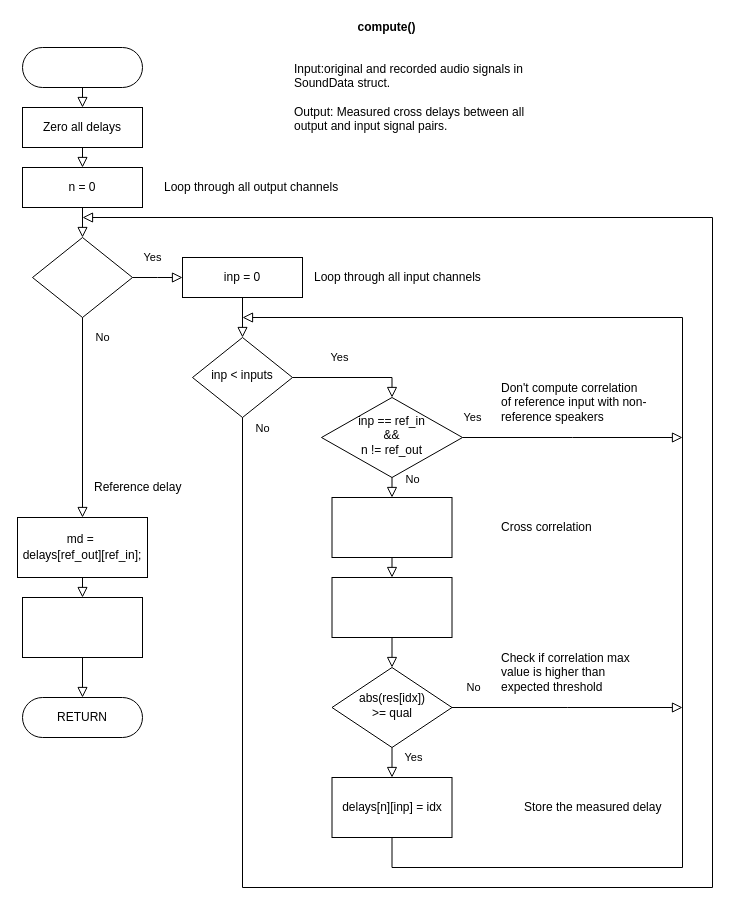
This 740x915 diagram has some shape labels left out. Each missing label, with the centre of its shape:
Decrement all delays by reference delay: the point at 82,627
idx = position of maximum abs value: the point at 391,607
n < num: the point at 82,277
START: the point at 82,67
xcorr: the point at 391,527
